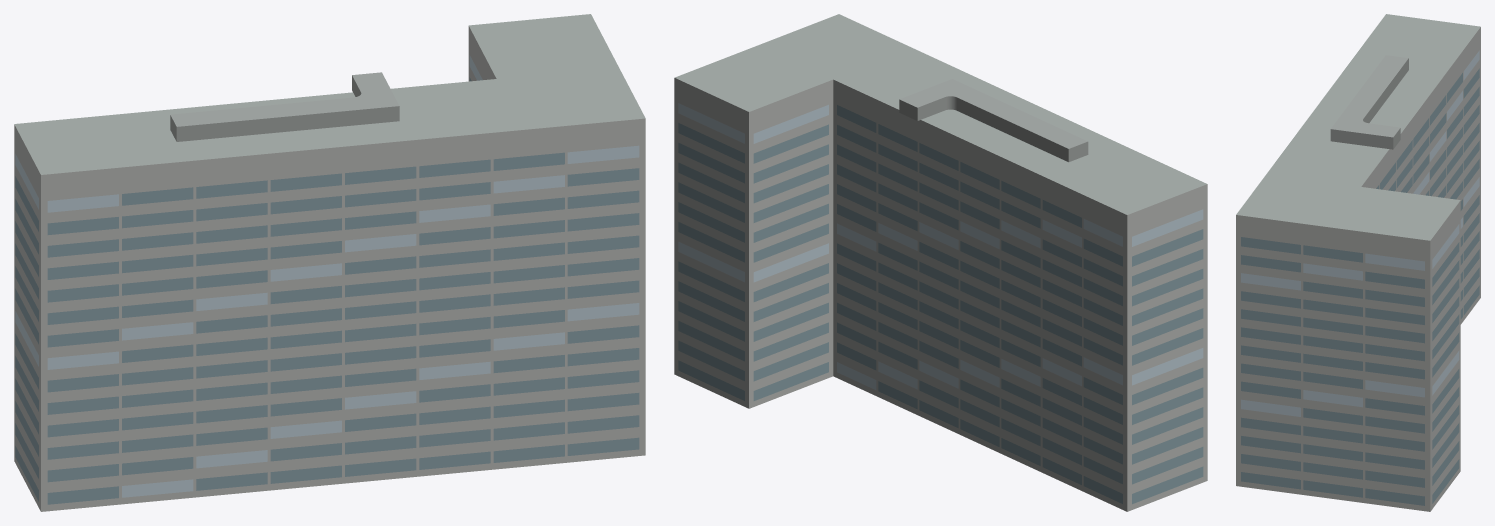
Rendered from fallback-olympic-park-foreon-419.glb.
3 views of the same model, side by side, from view 1: azimuth 30°, elevation 25°; view 2: azimuth 150°, elevation 25°; view 3: azimuth 270°, elevation 25° (orthographic). The views are drawn at different scales.
Visible parts, largest first — view 1: fallback-olympic-park-foreon-419; view 2: fallback-olympic-park-foreon-419; view 3: fallback-olympic-park-foreon-419.
Boxes of the visible parts, x1=… form: fallback-olympic-park-foreon-419: x1=14, y1=14, x2=645, y2=511; fallback-olympic-park-foreon-419: x1=674, y1=14, x2=1207, y2=511; fallback-olympic-park-foreon-419: x1=1236, y1=14, x2=1480, y2=511.
Size of the model in its own units: 82.07 by 47.81 by 37.46.
